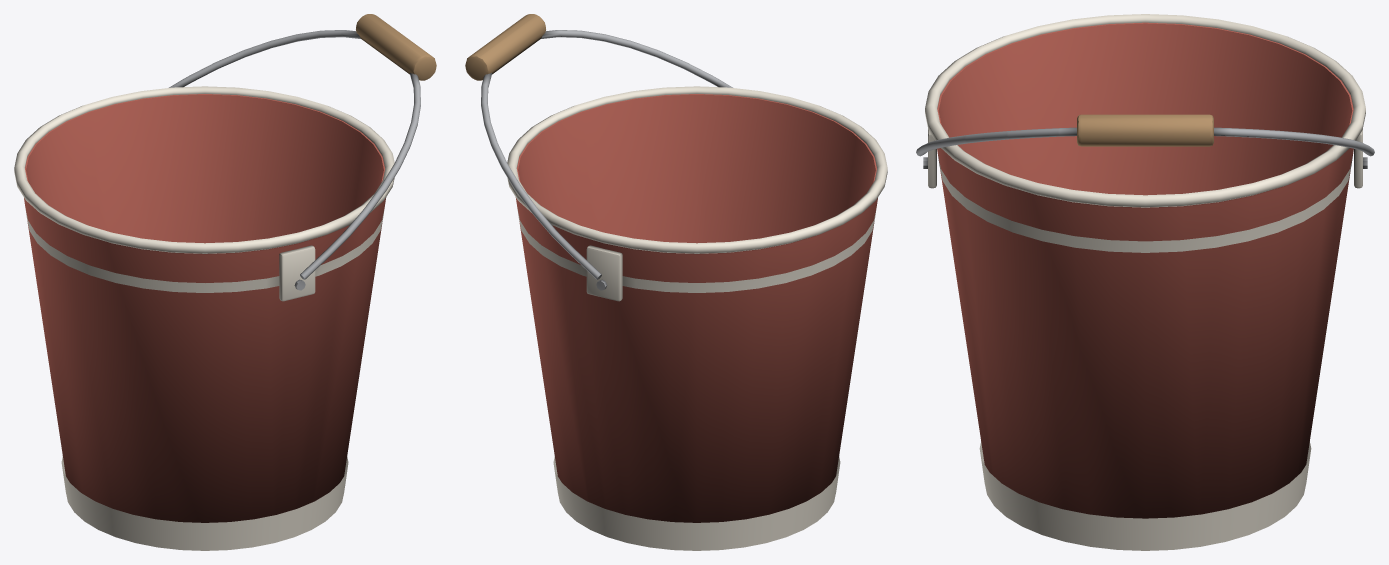
File: nd_bucket.glb
The picture shows the model from 3 angles, left to right: view 1: azimuth 30°, elevation 25°; view 2: azimuth 150°, elevation 25°; view 3: azimuth 270°, elevation 25°; orthographic projection. The views are drawn at different scales.
Parts seen in each view (by area): view 1: PART; view 2: PART; view 3: PART.
Boxes of the visible parts, box(x1,y1,x2,y2) form: PART: box(14, 14, 436, 550); PART: box(465, 14, 887, 550); PART: box(916, 14, 1374, 550).
Size of the model in its own units: 0.3232 by 0.3445 by 0.3018.
